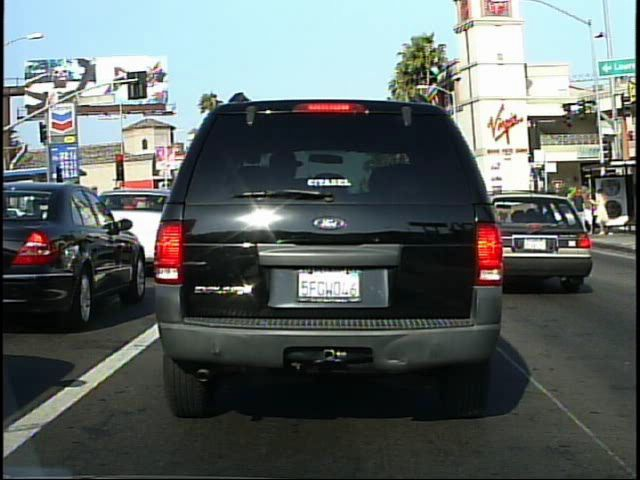person: (591, 185, 614, 237), (569, 183, 590, 239)
